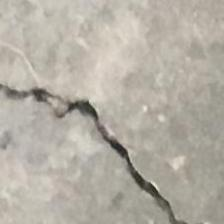Crack: (0, 41, 224, 224)
